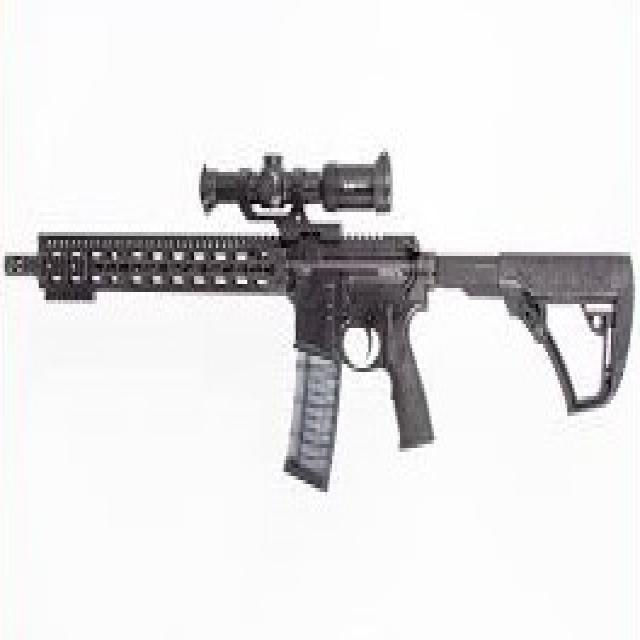rifle: (1, 125, 636, 493)
